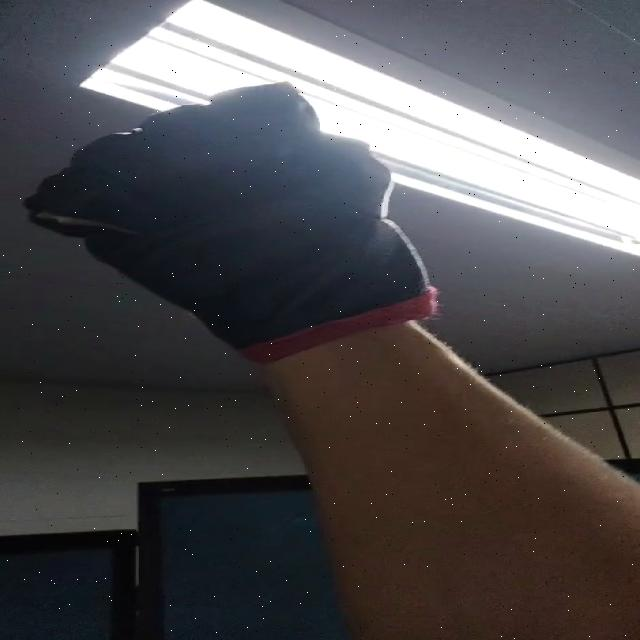Gloves: (26, 83, 437, 361)
